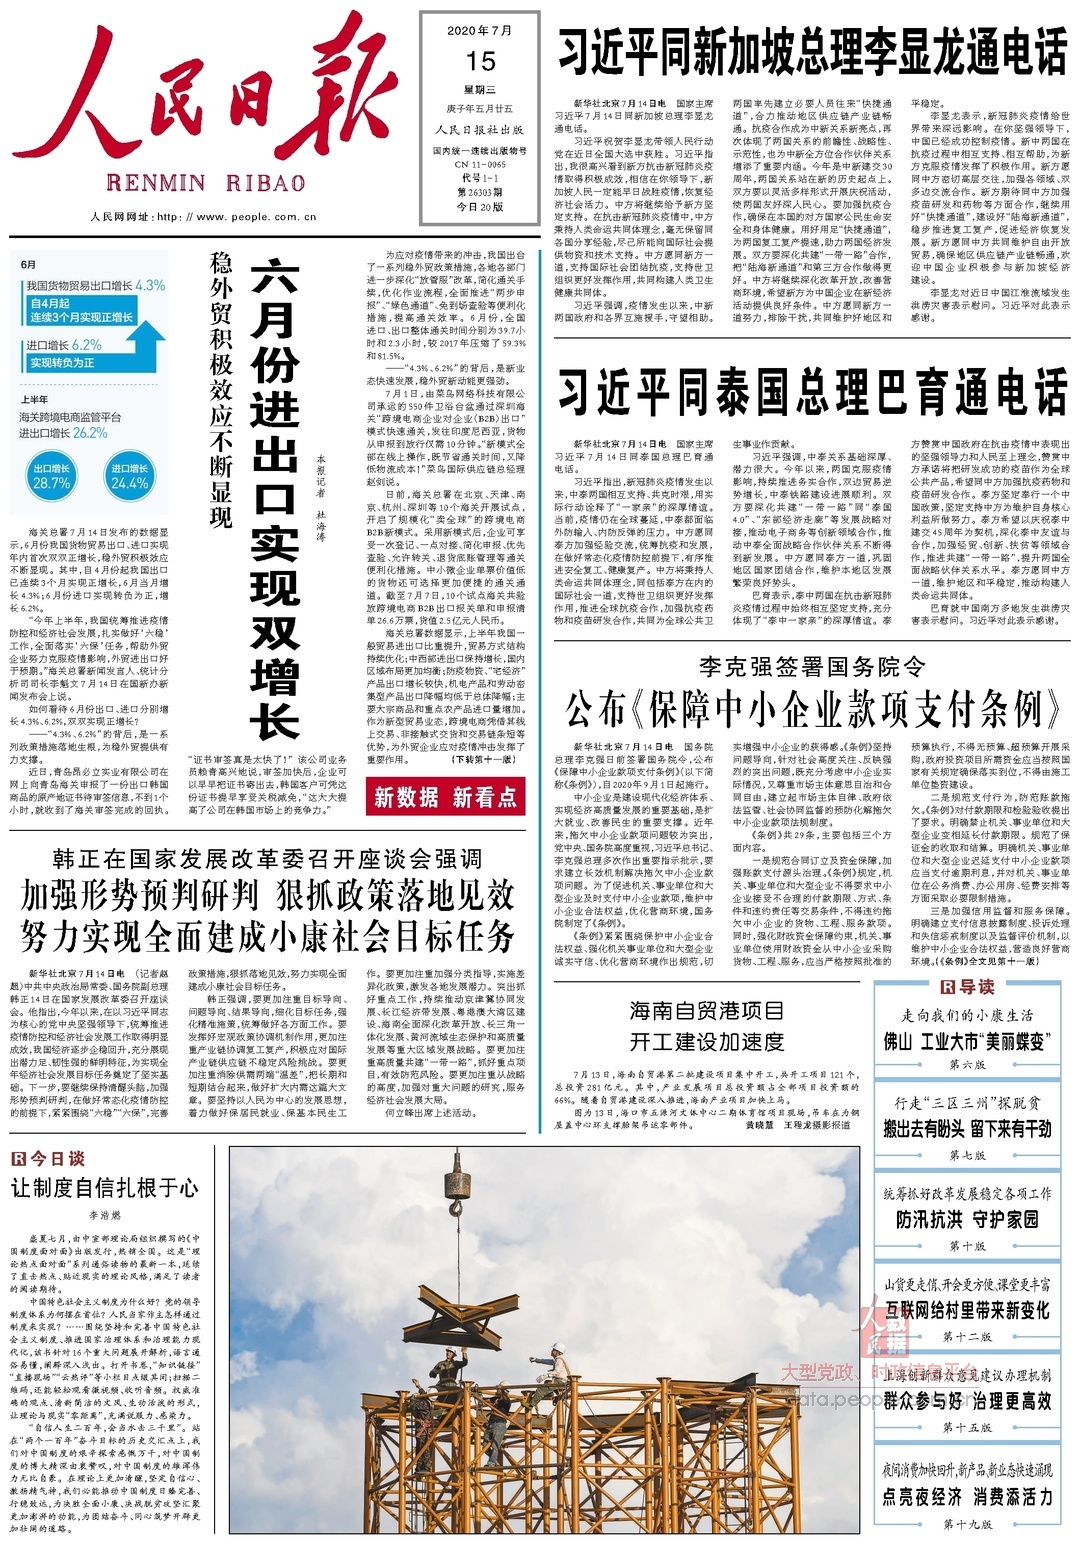pic: (223, 1141, 869, 1541)
